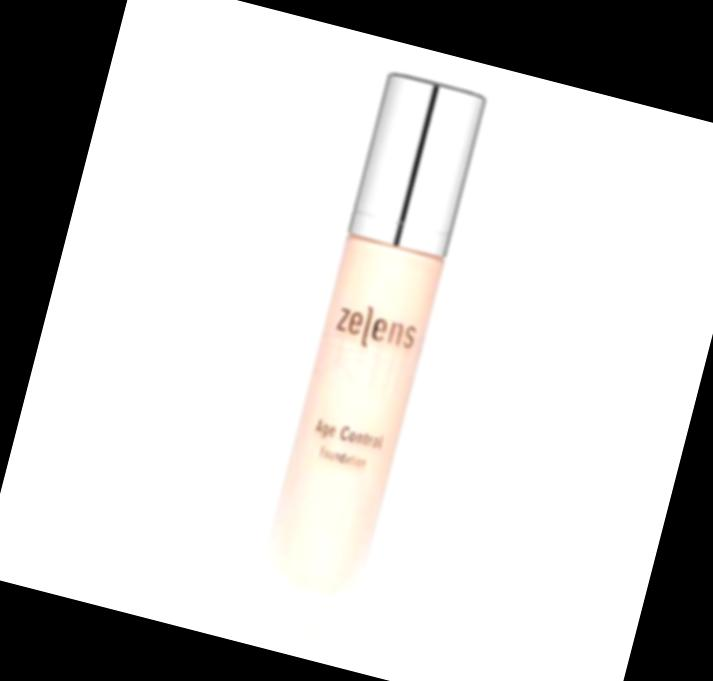cosmetic: (245, 68, 491, 648)
